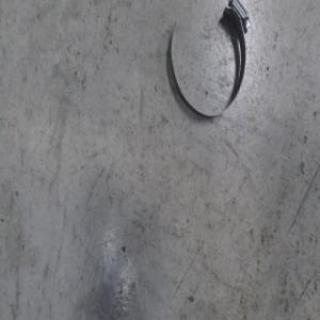AdjustableClamptrack_idkeyframe: (169, 0, 253, 119)
